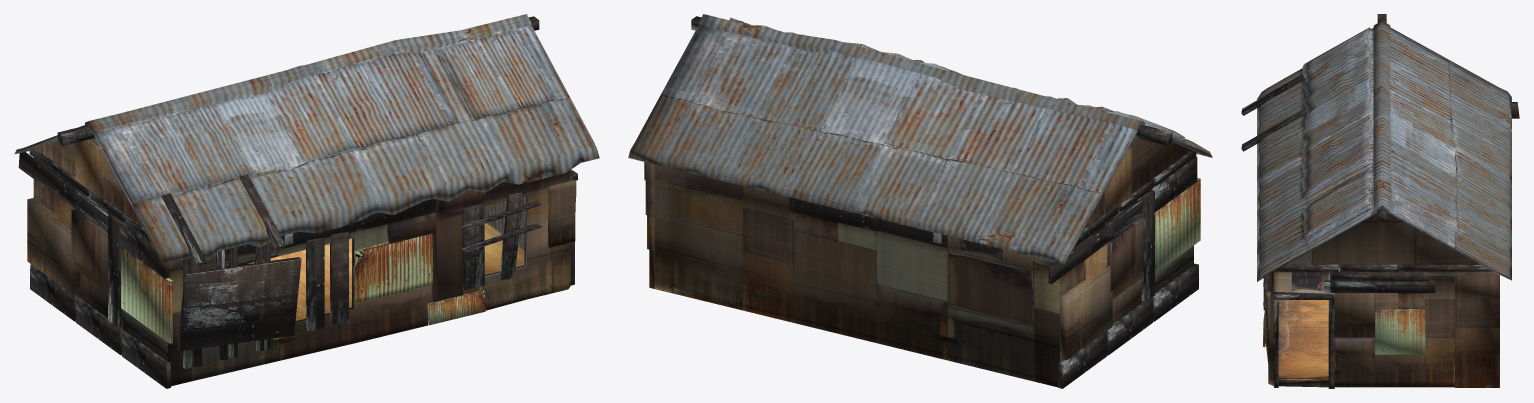
File: shanty6.dae
3 views of the same model, side by side, from view 1: azimuth 30°, elevation 25°; view 2: azimuth 150°, elevation 25°; view 3: azimuth 270°, elevation 25° (orthographic). The views are drawn at different scales.
Visible parts, largest first — view 1: U3DMesh; view 2: U3DMesh; view 3: U3DMesh.
Part boxes in pixels (x1,y1,x2,y2): U3DMesh: (14,14,599,388); U3DMesh: (628,14,1212,388); U3DMesh: (1241,14,1519,388).
Bounding box in the file's own units: 411 × 187 × 242.
